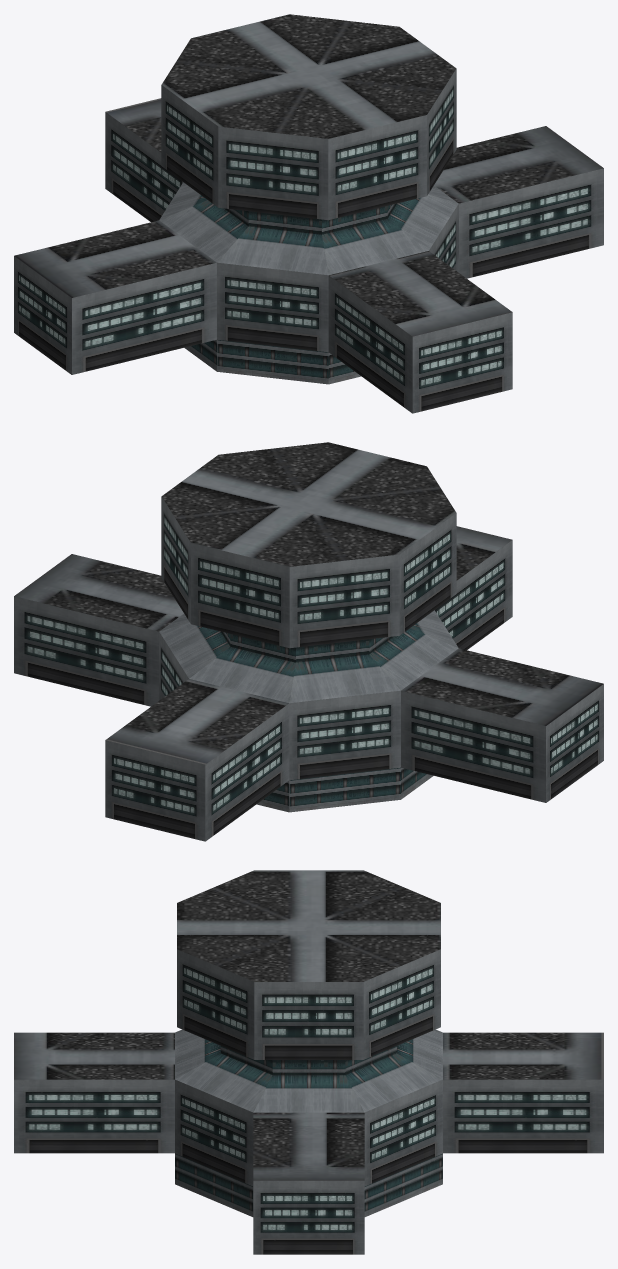
The model's file is Bldg00.fbx.
The picture shows the model from 3 angles, top to bottom: view 1: azimuth 30°, elevation 25°; view 2: azimuth 150°, elevation 25°; view 3: azimuth 270°, elevation 25°; orthographic projection. The views are drawn at different scales.
Parts seen in each view (by area): view 1: Bldg00; view 2: Bldg00; view 3: Bldg00.
Boxes of the visible parts, x1,y1,x2,y2 form: Bldg00: [14, 14, 603, 413]; Bldg00: [14, 442, 603, 841]; Bldg00: [14, 870, 603, 1254].
Size of the model in its own units: 260 by 114 by 260.
